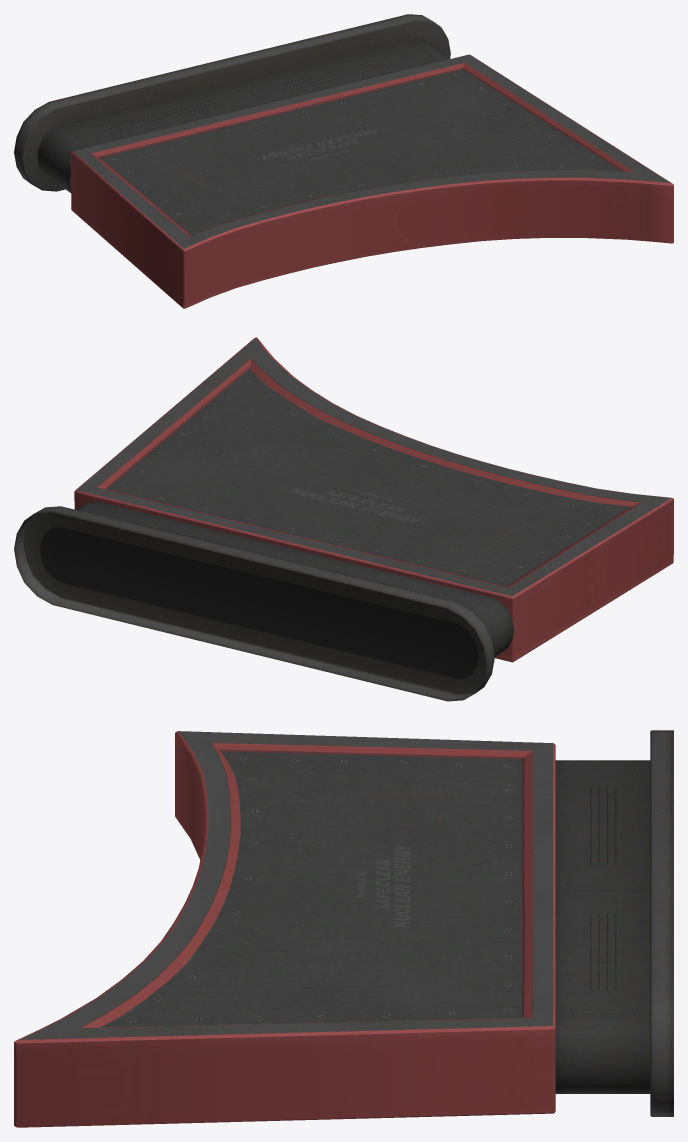
File: nt_sign_population_LOD0.obj
The picture shows the model from 3 angles, top to bottom: view 1: azimuth 30°, elevation 25°; view 2: azimuth 150°, elevation 25°; view 3: azimuth 270°, elevation 25°; orthographic projection. The views are drawn at different scales.
Visible parts, largest first — view 1: mtl_nt_sign_population; view 2: mtl_nt_sign_population; view 3: mtl_nt_sign_population.
Part boxes in pixels (box(x1,y1,x2,y2)): mtl_nt_sign_population: box(14, 14, 673, 308); mtl_nt_sign_population: box(14, 337, 673, 701); mtl_nt_sign_population: box(14, 730, 673, 1127).
Bounding box in the file's own units: 395 × 72.93 × 354.
